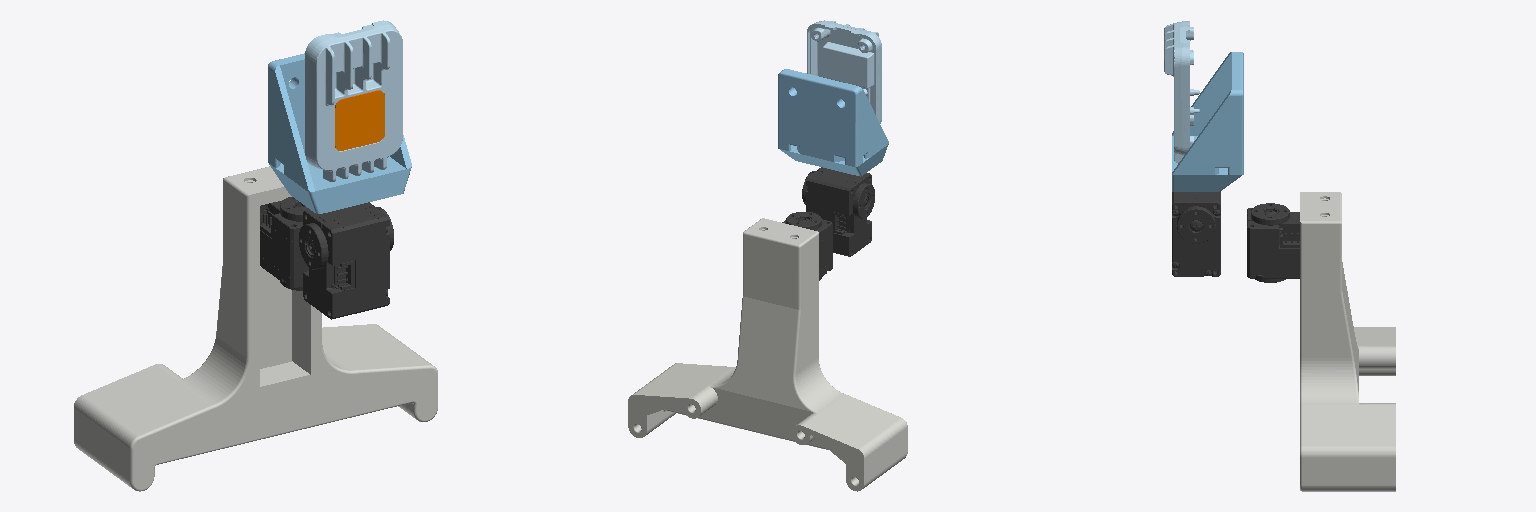
The robot description file, URDF, robot "joga_neck":
<?xml version="1.0" encoding="utf-8"?>
<!-- Joga Neck: 2-DoF pan-tilt camera neck for the Unitree G1 (https://joga.csail.mit.edu/neck/).
     The kinematics, camera frame, and mass properties are the model used to train the Joga policies,
     with one link per rigid body. Units: m, kg, rad.
     revolute_1 = pan (+ = look left), revolute_2 = tilt (+ = look down).
     Attach `root` to the G1 torso; g1/g1_joga_neck.xml does this at the calibrated mount pose. -->
<robot name="joga_neck">
  <mujoco>
    <compiler meshdir="meshes/" strippath="true" discardvisual="false" fusestatic="false" />
  </mujoco>
  <!-- Torso Mount and the pan (yaw) servo body. Attach this link to the G1 torso. -->
  <link name="root">
    <inertial>
      <origin xyz="-1.88947806e-06 -0.0165475179 0.0317838142" rpy="0 0 0" />
      <mass value="0.0569618527" />
      <inertia ixx="7.7620303e-05" ixy="-4.87390976e-10" ixz="5.97099333e-09" iyy="0.00010172899" iyz="2.08546722e-05" izz="4.81920637e-05" />
    </inertial>
    <visual name="b3b_eh_2">
      <origin xyz="0.00770000053 -0.0277000144 0.0674000122" rpy="1.57079367 6.32680464e-06 1.57080265" />
      <geometry>
        <mesh filename="meshes/B3B_EH.stl" />
      </geometry>
      <material name="b3b_eh_2_material">
        <color rgba="0.301961 0.301961 0.301961 1" />
      </material>
    </visual>
    <visual name="b3b_eh_3">
      <origin xyz="-0.00769999947 -0.0277001118 0.0673999713" rpy="1.57080163 -8.98039444e-06 -1.57079" />
      <geometry>
        <mesh filename="meshes/B3B_EH.stl" />
      </geometry>
      <material name="b3b_eh_3_material">
        <color rgba="0.301961 0.301961 0.301961 1" />
      </material>
    </visual>
    <visual name="bts2_m2_6x8_4">
      <origin xyz="-2.9190209e-09 -0.0366999696 0.0777000487" rpy="1.57079 -2.65358275e-06 2.65360658e-06" />
      <geometry>
        <mesh filename="meshes/BTS2_M2_6X8.stl" />
      </geometry>
      <material name="bts2_m2_6x8_4_material">
        <color rgba="0.301961 0.301961 0.301961 1" />
      </material>
    </visual>
    <visual name="bts2_m2_6x8_5">
      <origin xyz="-2.9190209e-09 -0.0366999696 0.0777000487" rpy="1.57079 -2.65358275e-06 2.65360658e-06" />
      <geometry>
        <mesh filename="meshes/BTS2_M2_6X8_1.stl" />
      </geometry>
      <material name="bts2_m2_6x8_5_material">
        <color rgba="0.301961 0.301961 0.301961 1" />
      </material>
    </visual>
    <visual name="bts2_m2_6x8_6">
      <origin xyz="0 -0.0367001415 0.0521000487" rpy="-1.57079 -7.04153879e-12 -3.14159" />
      <geometry>
        <mesh filename="meshes/BTS2_M2_6X8_1.stl" />
      </geometry>
      <material name="bts2_m2_6x8_6_material">
        <color rgba="0.301961 0.301961 0.301961 1" />
      </material>
    </visual>
    <visual name="bts2_m2_6x8_7">
      <origin xyz="0 -0.0367001415 0.0521000487" rpy="-1.57079 -7.04153879e-12 -3.14159" />
      <geometry>
        <mesh filename="meshes/BTS2_M2_6X8.stl" />
      </geometry>
      <material name="bts2_m2_6x8_7_material">
        <color rgba="0.301961 0.301961 0.301961 1" />
      </material>
    </visual>
    <visual name="dc15_a01_case_b_dummy_1">
      <origin xyz="0 -0.0367 0.0765000597" rpy="3.14159 0 0" />
      <geometry>
        <mesh filename="meshes/DC15_A01_CASE_B_DUMMY.stl" />
      </geometry>
      <material name="dc15_a01_case_b_dummy_1_material">
        <color rgba="0.301961 0.301961 0.301961 1" />
      </material>
    </visual>
    <visual name="dc15_a01_case_f_dummy_1">
      <origin xyz="0 -0.0367000517 0.0570000597" rpy="3.14159 0 0" />
      <geometry>
        <mesh filename="meshes/DC15_A01_CASE_F_DUMMY.stl" />
      </geometry>
      <material name="dc15_a01_case_f_dummy_1_material">
        <color rgba="0.301961 0.301961 0.301961 1" />
      </material>
    </visual>
    <visual name="dc15_a01_case_m_dummy_1">
      <origin xyz="0 -0.0367000517 0.0570000597" rpy="3.14159 0 0" />
      <geometry>
        <mesh filename="meshes/DC15_A01_CASE_M_DUMMY.stl" />
      </geometry>
      <material name="dc15_a01_case_m_dummy_1_material">
        <color rgba="0.301961 0.301961 0.301961 1" />
      </material>
    </visual>
    <visual name="dc15_a01_horn_dummy_1">
      <origin xyz="0 -0.0367000613 0.0534000597" rpy="-1.57079 -7.04153879e-12 -3.14159" />
      <geometry>
        <mesh filename="meshes/DC15_A01_HORN_DUMMY.stl" />
      </geometry>
      <material name="dc15_a01_horn_dummy_1_material">
        <color rgba="0.301961 0.301961 0.301961 1" />
      </material>
    </visual>
    <visual name="dc15_a01_horn_idle2_dummy_1">
      <origin xyz="0 -0.0366999865 0.0766000487" rpy="-1e-05 -2.65358275e-06 2.65360658e-06" />
      <geometry>
        <mesh filename="meshes/DC15_A01_HORN_IDLE2_DUMMY.stl" />
      </geometry>
      <material name="dc15_a01_horn_idle2_dummy_1_material">
        <color rgba="0.301961 0.301961 0.301961 1" />
      </material>
    </visual>
    <visual name="dc15_a01_idle_cap_dummy_1">
      <origin xyz="-7.16478016e-09 -0.0366999595 0.0793000487" rpy="1.57079 -2.65358275e-06 2.65360658e-06" />
      <geometry>
        <mesh filename="meshes/DC15_A01_IDLE_CAP_DUMMY.stl" />
      </geometry>
      <material name="dc15_a01_idle_cap_dummy_1_material">
        <color rgba="0.301961 0.301961 0.301961 1" />
      </material>
    </visual>
    <visual name="dc15_a01_led_cap2_dummy_1">
      <origin xyz="1.99017168e-08 -0.0441999272 0.0746001072" rpy="1e-05 -7.04153879e-12 -3.14159" />
      <geometry>
        <mesh filename="meshes/DC15_A01_LED_CAP2_DUMMY.stl" />
      </geometry>
      <material name="dc15_a01_led_cap2_dummy_1_material">
        <color rgba="0.301961 0.301961 0.301961 1" />
      </material>
    </visual>
    <visual name="phs_1_7x20_5_dc10_10">
      <origin xyz="0.00840001194 -0.0412001009 0.0550000772" rpy="-1.57079 -7.04153879e-12 -3.14159" />
      <geometry>
        <mesh filename="meshes/PHS_1_7X20_5_DC10.stl" />
      </geometry>
      <material name="phs_1_7x20_5_dc10_10_material">
        <color rgba="0.301961 0.301961 0.301961 1" />
      </material>
    </visual>
    <visual name="phs_1_7x20_5_dc10_11">
      <origin xyz="-0.00840005148 -0.0173001455 0.0549999259" rpy="-1.57079 -7.04153879e-12 -3.14159" />
      <geometry>
        <mesh filename="meshes/PHS_1_7X20_5_DC10.stl" />
      </geometry>
      <material name="phs_1_7x20_5_dc10_11_material">
        <color rgba="0.301961 0.301961 0.301961 1" />
      </material>
    </visual>
    <visual name="phs_1_7x20_5_dc10_12">
      <origin xyz="0.00489993923 -0.0138001102 0.0549999038" rpy="-1.57079 -7.04153879e-12 -3.14159" />
      <geometry>
        <mesh filename="meshes/PHS_1_7X20_5_DC10_1.stl" />
      </geometry>
      <material name="phs_1_7x20_5_dc10_12_material">
        <color rgba="0.301961 0.301961 0.301961 1" />
      </material>
    </visual>
    <visual name="phs_1_7x20_5_dc10_13">
      <origin xyz="-0.00839998806 -0.0412001455 0.0550000772" rpy="-1.57079 -7.04153879e-12 -3.14159" />
      <geometry>
        <mesh filename="meshes/PHS_1_7X20_5_DC10.stl" />
      </geometry>
      <material name="phs_1_7x20_5_dc10_13_material">
        <color rgba="0.301961 0.301961 0.301961 1" />
      </material>
    </visual>
    <visual name="phs_1_7x20_5_dc10_14">
      <origin xyz="-0.00840005148 -0.0173001455 0.0549999259" rpy="-1.57079 -7.04153879e-12 -3.14159" />
      <geometry>
        <mesh filename="meshes/PHS_1_7X20_5_DC10_1.stl" />
      </geometry>
      <material name="phs_1_7x20_5_dc10_14_material">
        <color rgba="0.301961 0.301961 0.301961 1" />
      </material>
    </visual>
    <visual name="phs_1_7x20_5_dc10_15">
      <origin xyz="0.00840001194 -0.0412001009 0.0550000772" rpy="-1.57079 -7.04153879e-12 -3.14159" />
      <geometry>
        <mesh filename="meshes/PHS_1_7X20_5_DC10_1.stl" />
      </geometry>
      <material name="phs_1_7x20_5_dc10_15_material">
        <color rgba="0.301961 0.301961 0.301961 1" />
      </material>
    </visual>
    <visual name="phs_1_7x20_5_dc10_8">
      <origin xyz="0.00489993923 -0.0138001102 0.0549999038" rpy="-1.57079 -7.04153879e-12 -3.14159" />
      <geometry>
        <mesh filename="meshes/PHS_1_7X20_5_DC10.stl" />
      </geometry>
      <material name="phs_1_7x20_5_dc10_8_material">
        <color rgba="0.301961 0.301961 0.301961 1" />
      </material>
    </visual>
    <visual name="phs_1_7x20_5_dc10_9">
      <origin xyz="-0.00839998806 -0.0412001455 0.0550000772" rpy="-1.57079 -7.04153879e-12 -3.14159" />
      <geometry>
        <mesh filename="meshes/PHS_1_7X20_5_DC10_1.stl" />
      </geometry>
      <material name="phs_1_7x20_5_dc10_9_material">
        <color rgba="0.301961 0.301961 0.301961 1" />
      </material>
    </visual>
    <visual name="torso_mount">
      <origin xyz="0 0 0" rpy="0 0 0" />
      <geometry>
        <mesh filename="meshes/torso_mount.stl" />
      </geometry>
      <material name="torso_mount_material">
        <color rgba="0.85 0.85 0.83 1" />
      </material>
    </visual>
  </link>
  <!-- Yaw bracket and the tilt (pitch) servo body. -->
  <link name="pan_link">
    <inertial>
      <origin xyz="-0.000178260303 0.0276276589 -0.0209369366" rpy="0 0 0" />
      <mass value="0.0306201227" />
      <inertia ixx="5.39959447e-06" ixy="1.30591306e-08" ixz="-9.58845652e-09" iyy="4.84621929e-06" iyz="3.82700484e-07" izz="3.71500002e-06" />
    </inertial>
    <visual name="b3b_eh">
      <origin xyz="-0.00274304069 0.0382000722 -0.019639998" rpy="2.51597799 1.5707918 -2.19639935" />
      <geometry>
        <mesh filename="meshes/B3B_EH.stl" />
      </geometry>
      <material name="b3b_eh_material">
        <color rgba="0.301961 0.301961 0.301961 1" />
      </material>
    </visual>
    <visual name="b3b_eh_1">
      <origin xyz="-0.00274290239 0.0228000722 -0.0196399414" rpy="-2.65358627e-06 -1.57079265 1.57080796" />
      <geometry>
        <mesh filename="meshes/B3B_EH.stl" />
      </geometry>
      <material name="b3b_eh_1_material">
        <color rgba="0.301961 0.301961 0.301961 1" />
      </material>
    </visual>
    <visual name="bts2_m2_6x8">
      <origin xyz="0.0125570285 0.0305001445 -0.0286399513" rpy="3.14159265 0 1.57080265" />
      <geometry>
        <mesh filename="meshes/BTS2_M2_6X8.stl" />
      </geometry>
      <material name="bts2_m2_6x8_material">
        <color rgba="0.301961 0.301961 0.301961 1" />
      </material>
    </visual>
    <visual name="bts2_m2_6x8_1">
      <origin xyz="0.0125570285 0.0305001445 -0.0286399513" rpy="3.14159265 0 1.57080265" />
      <geometry>
        <mesh filename="meshes/BTS2_M2_6X8_1.stl" />
      </geometry>
      <material name="bts2_m2_6x8_1_material">
        <color rgba="0.301961 0.301961 0.301961 1" />
      </material>
    </visual>
    <visual name="bts2_m2_6x8_2">
      <origin xyz="-0.0130429715 0.0304999797 -0.0286399414" rpy="-3.14159265 0 -1.57078735" />
      <geometry>
        <mesh filename="meshes/BTS2_M2_6X8_1.stl" />
      </geometry>
      <material name="bts2_m2_6x8_2_material">
        <color rgba="0.301961 0.301961 0.301961 1" />
      </material>
    </visual>
    <visual name="bts2_m2_6x8_3">
      <origin xyz="-0.0130429715 0.0304999797 -0.0286399414" rpy="-3.14159265 0 -1.57078735" />
      <geometry>
        <mesh filename="meshes/BTS2_M2_6X8.stl" />
      </geometry>
      <material name="bts2_m2_6x8_3_material">
        <color rgba="0.301961 0.301961 0.301961 1" />
      </material>
    </visual>
    <visual name="dc15_a01_case_b_dummy">
      <origin xyz="-0.0118429826 0.0304999902 -0.0286399642" rpy="-1.57079265 2.65358979e-06 -1.57079" />
      <geometry>
        <mesh filename="meshes/DC15_A01_CASE_B_DUMMY.stl" />
      </geometry>
      <material name="dc15_a01_case_b_dummy_material">
        <color rgba="0.301961 0.301961 0.301961 1" />
      </material>
    </visual>
    <visual name="dc15_a01_case_f_dummy">
      <origin xyz="0.00765701744 0.0305001135 -0.0286398925" rpy="-1.57079265 2.65358979e-06 -1.57079" />
      <geometry>
        <mesh filename="meshes/DC15_A01_CASE_F_DUMMY.stl" />
      </geometry>
      <material name="dc15_a01_case_f_dummy_material">
        <color rgba="0.301961 0.301961 0.301961 1" />
      </material>
    </visual>
    <visual name="dc15_a01_case_m_dummy">
      <origin xyz="0.00765701744 0.0305001135 -0.0286398925" rpy="-1.57079265 2.65358979e-06 -1.57079" />
      <geometry>
        <mesh filename="meshes/DC15_A01_CASE_M_DUMMY.stl" />
      </geometry>
      <material name="dc15_a01_case_m_dummy_material">
        <color rgba="0.301961 0.301961 0.301961 1" />
      </material>
    </visual>
    <visual name="dc15_a01_horn_dummy">
      <origin xyz="0.0112570174 0.0305001363 -0.0286398793" rpy="3.14159265 0 1.57080265" />
      <geometry>
        <mesh filename="meshes/DC15_A01_HORN_DUMMY.stl" />
      </geometry>
      <material name="dc15_a01_horn_dummy_material">
        <color rgba="0.301961 0.301961 0.301961 1" />
      </material>
    </visual>
    <visual name="dc15_a01_horn_idle2_dummy">
      <origin xyz="-0.0119429715 0.0304999895 -0.0286399513" rpy="1.57079265 0 -1.57078735" />
      <geometry>
        <mesh filename="meshes/DC15_A01_HORN_IDLE2_DUMMY.stl" />
      </geometry>
      <material name="dc15_a01_horn_idle2_dummy_material">
        <color rgba="0.301961 0.301961 0.301961 1" />
      </material>
    </visual>
    <visual name="dc15_a01_idle_cap_dummy">
      <origin xyz="-0.0146429715 0.0304999653 -0.0286399414" rpy="-3.14159265 0 -1.57078735" />
      <geometry>
        <mesh filename="meshes/DC15_A01_IDLE_CAP_DUMMY.stl" />
      </geometry>
      <material name="dc15_a01_idle_cap_dummy_material">
        <color rgba="0.301961 0.301961 0.301961 1" />
      </material>
    </visual>
    <visual name="dc15_a01_led_cap2_dummy">
      <origin xyz="-0.00994298256 0.0305000022 -0.0361398793" rpy="-1.57079265 0 1.57080265" />
      <geometry>
        <mesh filename="meshes/DC15_A01_LED_CAP2_DUMMY.stl" />
      </geometry>
      <material name="dc15_a01_led_cap2_dummy_material">
        <color rgba="0.301961 0.301961 0.301961 1" />
      </material>
    </visual>
    <visual name="phs_1_7x20_5_dc10">
      <origin xyz="0.00965705946 0.0256001262 -0.00573995132" rpy="3.14159265 0 1.57080265" />
      <geometry>
        <mesh filename="meshes/PHS_1_7X20_5_DC10.stl" />
      </geometry>
      <material name="phs_1_7x20_5_dc10_material">
        <color rgba="0.301961 0.301961 0.301961 1" />
      </material>
    </visual>
    <visual name="phs_1_7x20_5_dc10_1">
      <origin xyz="0.00965697531 0.0389001262 -0.00923995132" rpy="3.14159265 0 1.57080265" />
      <geometry>
        <mesh filename="meshes/PHS_1_7X20_5_DC10_1.stl" />
      </geometry>
      <material name="phs_1_7x20_5_dc10_1_material">
        <color rgba="0.301961 0.301961 0.301961 1" />
      </material>
    </visual>
    <visual name="phs_1_7x20_5_dc10_2">
      <origin xyz="0.00965697531 0.0389001262 -0.0331399513" rpy="3.14159265 0 1.57080265" />
      <geometry>
        <mesh filename="meshes/PHS_1_7X20_5_DC10.stl" />
      </geometry>
      <material name="phs_1_7x20_5_dc10_2_material">
        <color rgba="0.301961 0.301961 0.301961 1" />
      </material>
    </visual>
    <visual name="phs_1_7x20_5_dc10_3">
      <origin xyz="0.0096570816 0.0221001262 -0.0331399513" rpy="3.14159265 0 1.57080265" />
      <geometry>
        <mesh filename="meshes/PHS_1_7X20_5_DC10_1.stl" />
      </geometry>
      <material name="phs_1_7x20_5_dc10_3_material">
        <color rgba="0.301961 0.301961 0.301961 1" />
      </material>
    </visual>
    <visual name="phs_1_7x20_5_dc10_4">
      <origin xyz="0.00965697531 0.0389001262 -0.00923995132" rpy="3.14159265 0 1.57080265" />
      <geometry>
        <mesh filename="meshes/PHS_1_7X20_5_DC10.stl" />
      </geometry>
      <material name="phs_1_7x20_5_dc10_4_material">
        <color rgba="0.301961 0.301961 0.301961 1" />
      </material>
    </visual>
    <visual name="phs_1_7x20_5_dc10_5">
      <origin xyz="0.0096570816 0.0221001262 -0.0331399513" rpy="3.14159265 0 1.57080265" />
      <geometry>
        <mesh filename="meshes/PHS_1_7X20_5_DC10.stl" />
      </geometry>
      <material name="phs_1_7x20_5_dc10_5_material">
        <color rgba="0.301961 0.301961 0.301961 1" />
      </material>
    </visual>
    <visual name="phs_1_7x20_5_dc10_6">
      <origin xyz="0.00965697531 0.0389001262 -0.0331399513" rpy="3.14159265 0 1.57080265" />
      <geometry>
        <mesh filename="meshes/PHS_1_7X20_5_DC10_1.stl" />
      </geometry>
      <material name="phs_1_7x20_5_dc10_6_material">
        <color rgba="0.301961 0.301961 0.301961 1" />
      </material>
    </visual>
    <visual name="phs_1_7x20_5_dc10_7">
      <origin xyz="0.00965705946 0.0256001262 -0.00573995132" rpy="3.14159265 0 1.57080265" />
      <geometry>
        <mesh filename="meshes/PHS_1_7X20_5_DC10_1.stl" />
      </geometry>
      <material name="phs_1_7x20_5_dc10_7_material">
        <color rgba="0.301961 0.301961 0.301961 1" />
      </material>
    </visual>
    <visual name="yaw_pitch_bracket">
      <origin xyz="0 0 0" rpy="0 0 0" />
      <geometry>
        <mesh filename="meshes/yaw_pitch_bracket.stl" />
      </geometry>
      <material name="yaw_pitch_bracket_material">
        <color rgba="0.85 0.85 0.83 1" />
      </material>
    </visual>
  </link>
  <!-- Output bracket, Camera Mount, and the OAK-1 W camera. -->
  <link name="tilt_link">
    <inertial>
      <origin xyz="0.00172053107 0.0495976486 -0.0146574193" rpy="0 0 0" />
      <mass value="0.065958906" />
      <inertia ixx="3.03987653e-05" ixy="8.1907149e-07" ixz="-8.81518552e-08" iyy="1.2090343e-05" iyz="1.42828883e-07" izz="2.64872798e-05" />
    </inertial>
    <visual name="606_00001_rev3">
      <origin xyz="-0.00095000772 0.0561999043 -0.014501883" rpy="0.945178905 1.5707918 -2.19640906" />
      <geometry>
        <mesh filename="meshes/_606_00001_REV3.stl" />
      </geometry>
      <material name="606_00001_rev3_material">
        <color rgba="0.768627 0.886275 0.952941 1" />
      </material>
    </visual>
    <visual name="606_00002_rev3">
      <origin xyz="-0.00100000772 0.0561998781 -0.0145001029" rpy="0.945178905 1.5707918 -2.19640906" />
      <geometry>
        <mesh filename="meshes/_606_00002_REV3.stl" />
      </geometry>
      <material name="606_00002_rev3_material">
        <color rgba="0.917647 0.917647 0.917647 1" />
      </material>
    </visual>
    <visual name="609_00001_adhesive">
      <origin xyz="-0.00095000772 0.0561999143 -0.0145018836" rpy="0.945178905 1.5707918 -2.19640906" />
      <geometry>
        <mesh filename="meshes/_609_00001_ADHESIVE.stl" />
      </geometry>
      <material name="609_00001_adhesive_material">
        <color rgba="0.498039 0.498039 0.498039 1" />
      </material>
    </visual>
    <visual name="609_00001_lens">
      <origin xyz="-0.00095000772 0.0561999143 -0.0145018836" rpy="0.945178905 1.5707918 -2.19640906" />
      <geometry>
        <mesh filename="meshes/_609_00001_LENS.stl" />
      </geometry>
      <material name="609_00001_lens_material">
        <color rgba="0.972549 0.529412 0.00392157 1" />
      </material>
    </visual>
    <visual name="oakmount">
      <origin xyz="0 0.016999962 -0.0145" rpy="-3.14159265 -1.57079265 1.57079735" />
      <geometry>
        <mesh filename="meshes/OakMount.stl" />
      </geometry>
      <material name="oakmount_material">
        <color rgba="0.615686 0.811765 0.929412 1" />
      </material>
    </visual>
    <visual name="output_bracket">
      <origin xyz="0 0 0" rpy="0 0 0" />
      <geometry>
        <mesh filename="meshes/output_bracket.stl" />
      </geometry>
      <material name="output_bracket_material">
        <color rgba="0.85 0.85 0.83 1" />
      </material>
    </visual>
  </link>
  <!-- pan (yaw), + = look left -->
  <joint name="revolute_1" type="revolute">
    <parent link="root" />
    <child link="pan_link" />
    <origin xyz="0 -0.0367000796 0.0505000597" rpy="3.14159 2.65359683e-06 2.65357134e-06" />
    <axis xyz="0 0 -1" />
    <limit lower="-1.5708" upper="1.5708" effort="0.93" velocity="8.48" />
  </joint>
  <!-- tilt (pitch), + = look down -->
  <joint name="revolute_2" type="revolute">
    <parent link="pan_link" />
    <child link="tilt_link" />
    <origin xyz="0.0141570174 0.0305001547 -0.0286398793" rpy="-1.57079265 0 -1.57078735" />
    <axis xyz="0 0 1" />
    <limit lower="-0.3491" upper="1.5708" effort="0.93" velocity="8.48" />
  </joint>
  <!-- Camera optical frame on the OAK-1 W (same pose as the original camera_frame). -->
  <link name="camera_frame">
    <inertial>
      <origin xyz="0 0 0" rpy="0 0 0" />
      <mass value="1e-09" />
      <inertia ixx="1e-12" ixy="0" ixz="0" iyy="1e-12" iyz="0" izz="1e-12" />
    </inertial>
  </link>
  <joint name="camera_joint" type="fixed">
    <parent link="tilt_link" />
    <child link="camera_frame" />
    <origin xyz="-0.00883897264 0.0487498674 -0.0144588247" rpy="1.5708 -2.65360329e-06 -3.14158796" />
  </joint>
</robot>

--- Render facts (derived) ---
Views: 3 orthographic renders of the robot side by side, from view 1: azimuth 30°, elevation 25°; view 2: azimuth 150°, elevation 25°; view 3: azimuth 270°, elevation 25°.
Model joga_neck with 4 links and 3 joints (2 revolute, 1 fixed), rooted at root, posed every joint at zero.
Visible links, largest first — view 1: root, tilt_link, pan_link; view 2: root, tilt_link, pan_link; view 3: root, tilt_link, pan_link.
Boxes of the visible links, x1,y1,x2,y2 form: root: (74,166,437,491); tilt_link: (268,20,411,213); pan_link: (299,202,393,319); root: (628,212,907,491); tilt_link: (778,20,888,176); pan_link: (802,167,874,256); root: (1247,192,1395,491); tilt_link: (1164,21,1243,191); pan_link: (1172,191,1220,276).
Size in the robot's own frame: 0.1222 by 0.0955 by 0.181 metres.
47 mesh visuals loaded from 20 distinct referenced files (17 binary STL); not drawn: 3 (reference not matched to a file when rendering).
